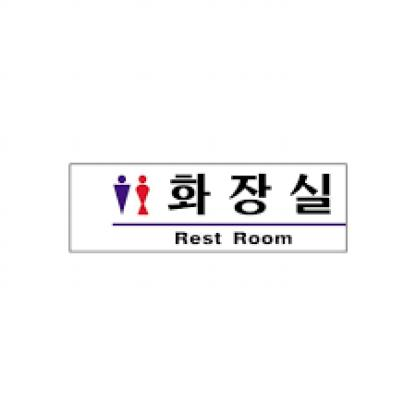toilet: (109, 168, 155, 220)
